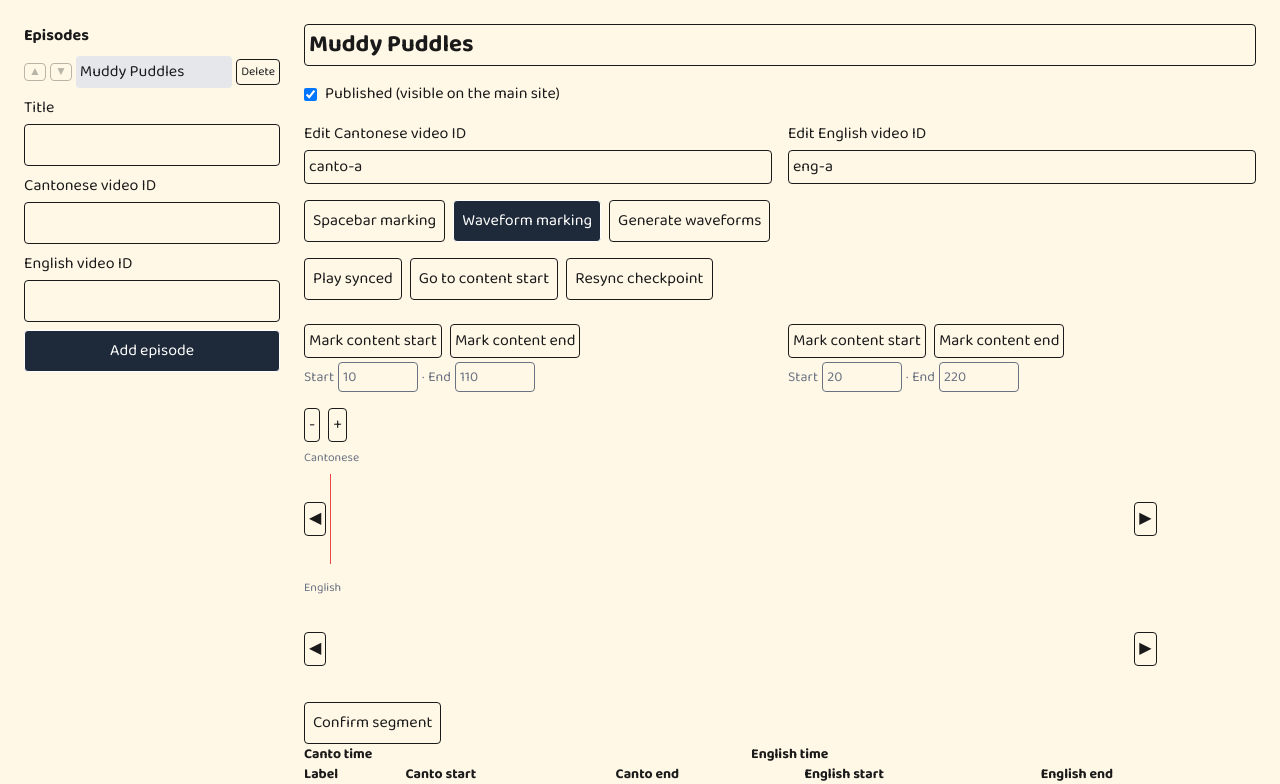
Test: Admin waveform marking › shows an error message when generating waveforms fails
The width and height of the screenshot is (1280, 784).
Click the button "Generate waveforms". click: (690, 221)
box: [609,200,770,242]
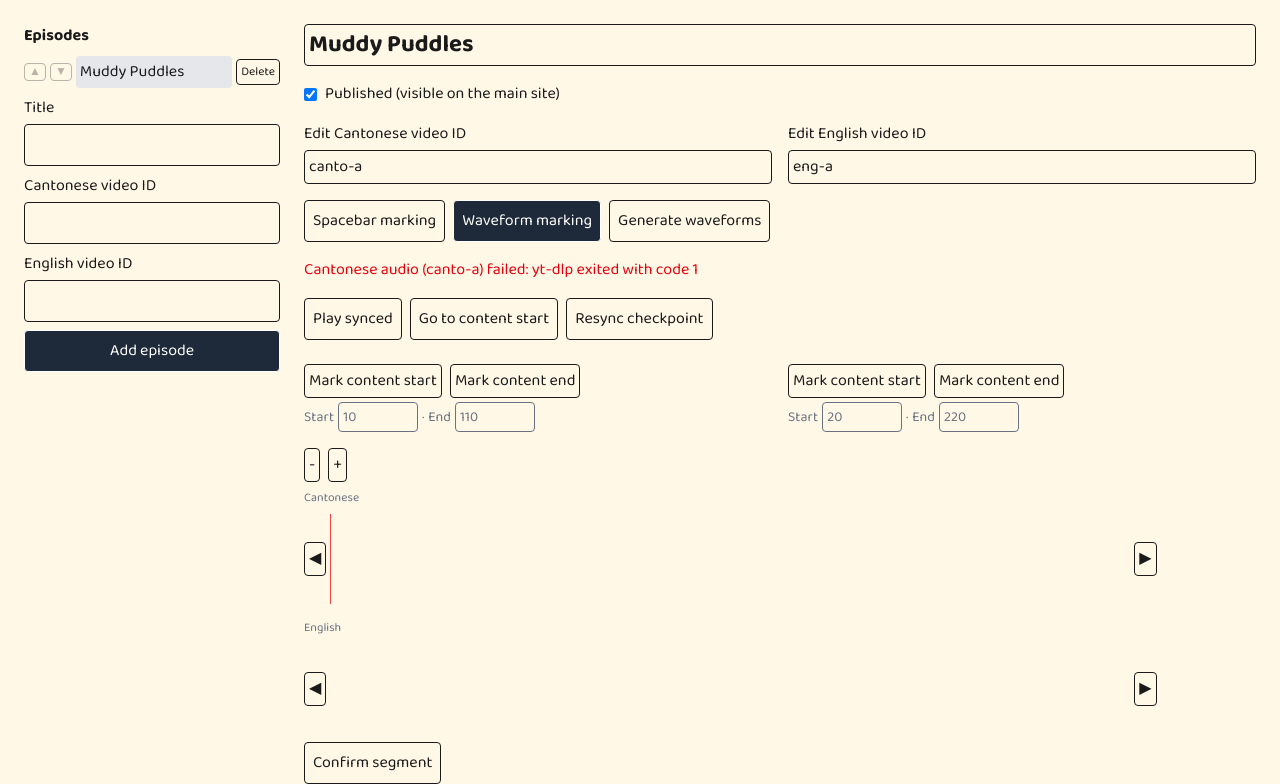
Result: the message reads "Cantonese audio (canto-a) failed: yt-dlp exited with code 1" at [304,257,698,282]
